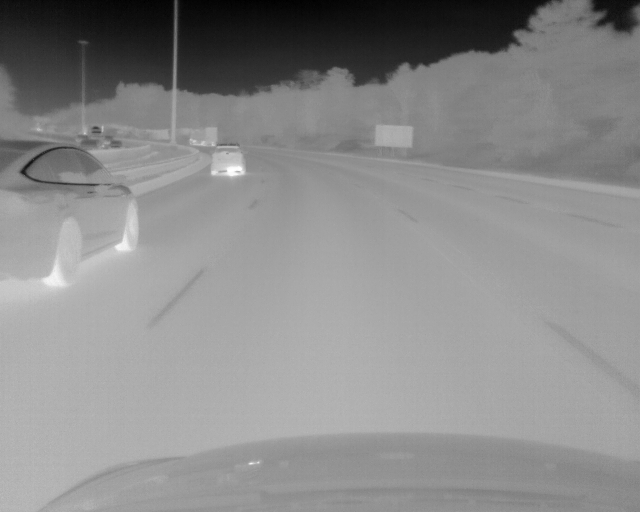car: (1, 140, 144, 292), (210, 143, 245, 177), (190, 127, 215, 144)
